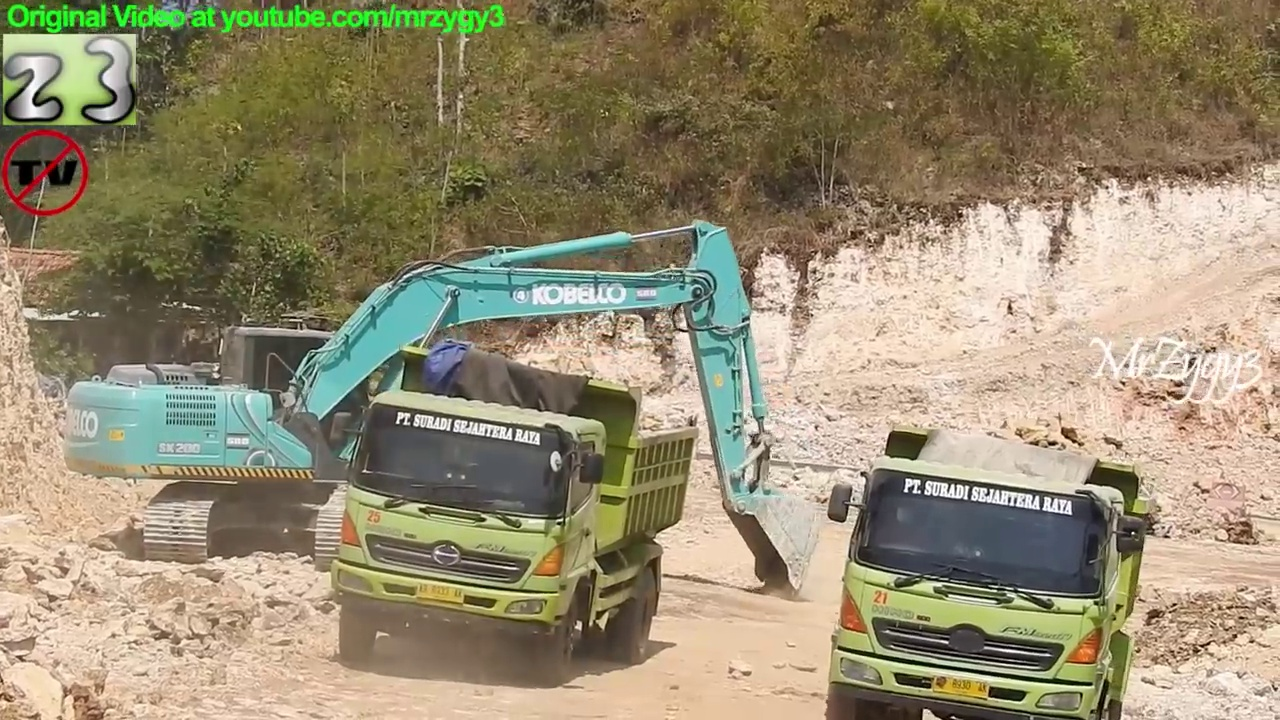excavator: (55, 214, 823, 607)
truck: (324, 338, 703, 690), (822, 423, 1169, 720)
